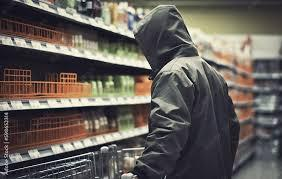Normal: (14, 1, 267, 179)
